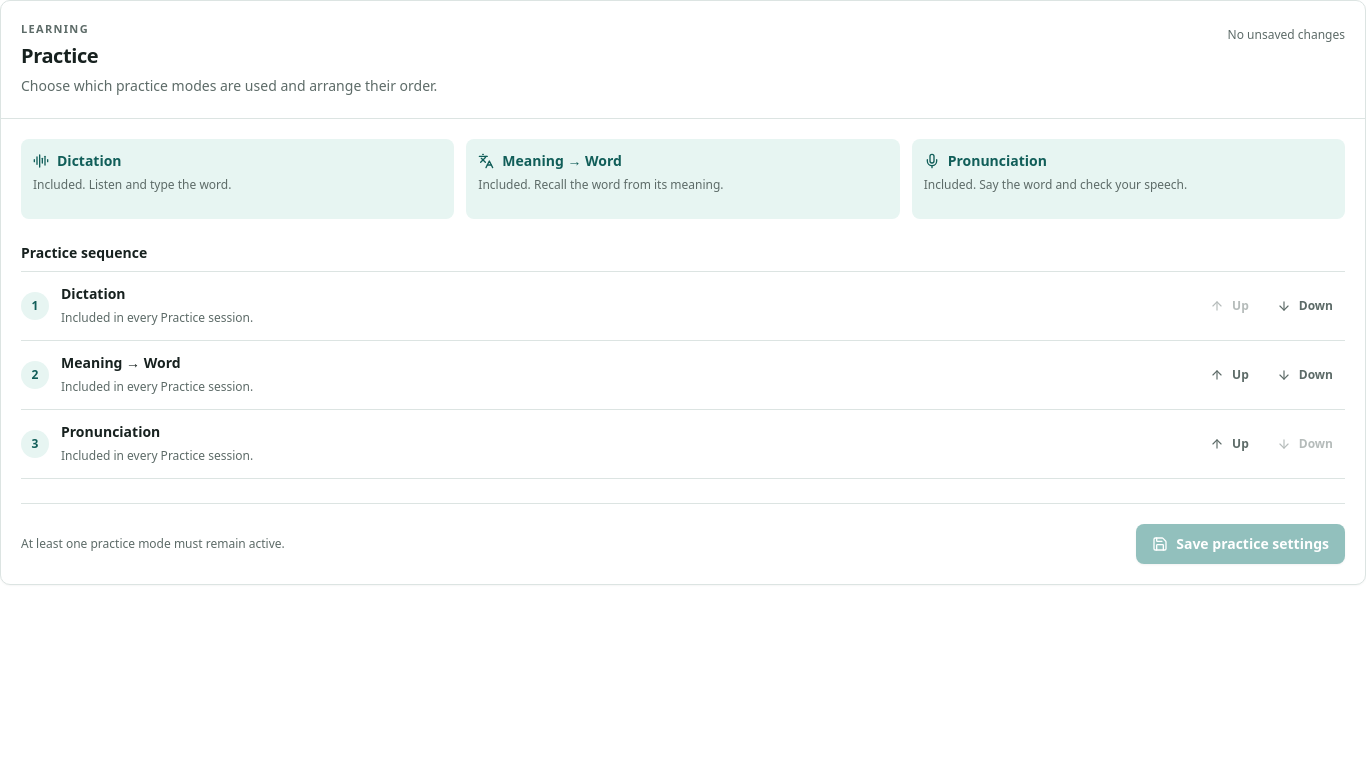
Test: SettingsPracticePage manual save › keeps practice edits local until save is clicked
This screenshot has width=1366, height=768.
Expected: the heading "Practice" is shown, [21, 42, 98, 68]
Click the button "Pronunciation Included. Say the word and check your speech." at {"x": 1128, "y": 178}, box [912, 138, 1345, 218]
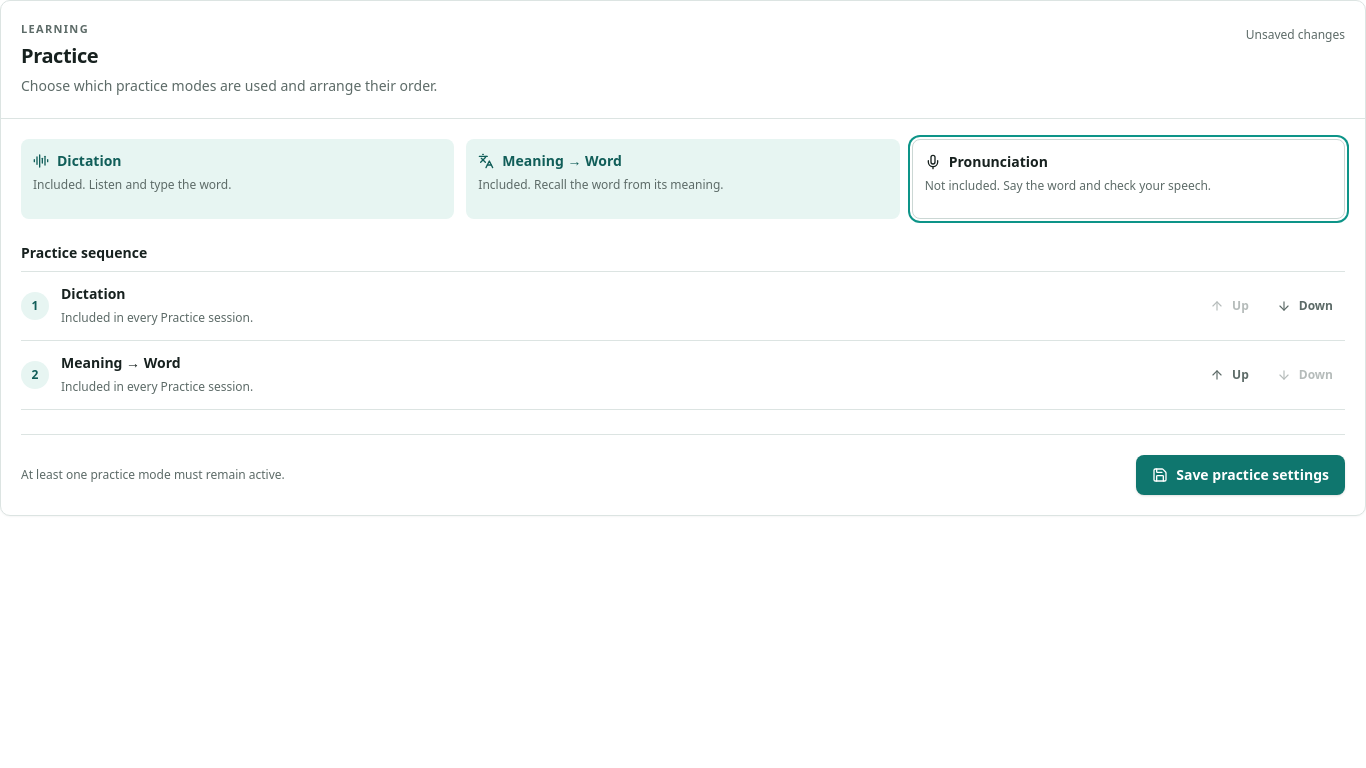
Expected: the text "Unsaved changes" is shown, [1246, 26, 1345, 43]
Click the button "Save practice settings" at {"x": 1241, "y": 474}, box [1136, 454, 1345, 494]
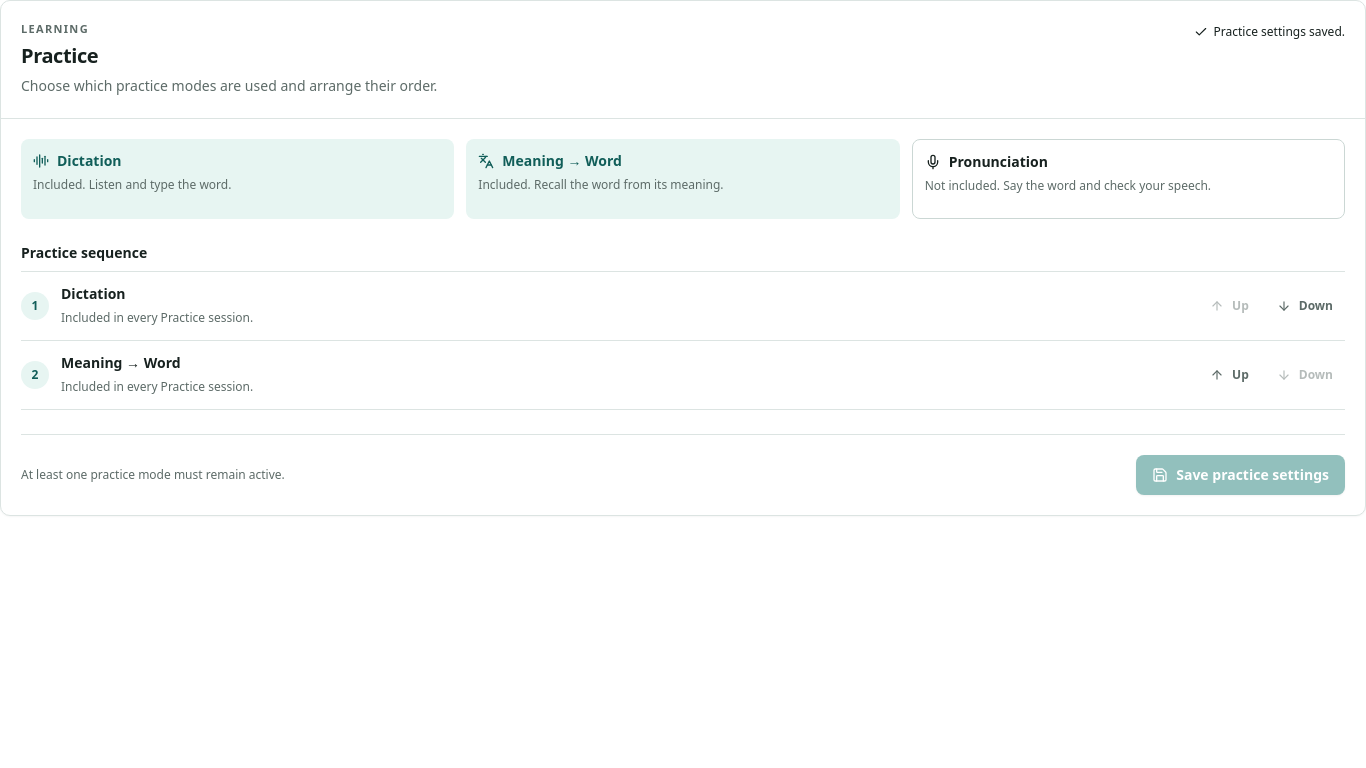
Expected: the text "Practice settings saved." is shown, [1194, 24, 1345, 40]
